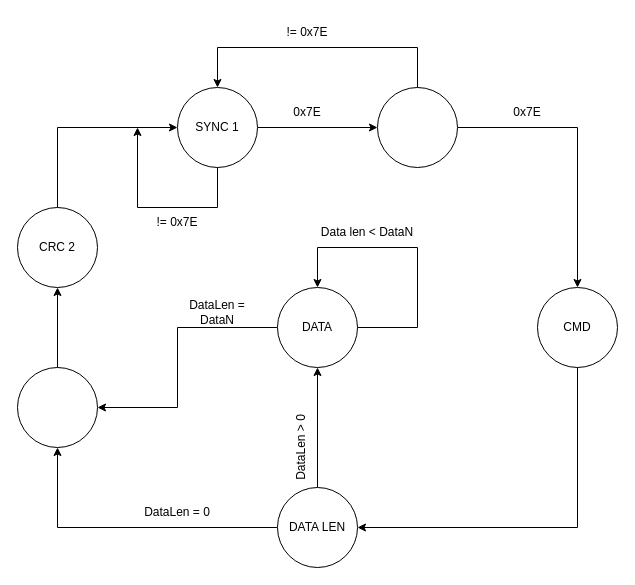
This 635x585 diagram has some shape labels left out. Each missing label, with the box of its shape:
CRC 1: (16, 366, 98, 448)
SYNC 2: (376, 86, 458, 168)
